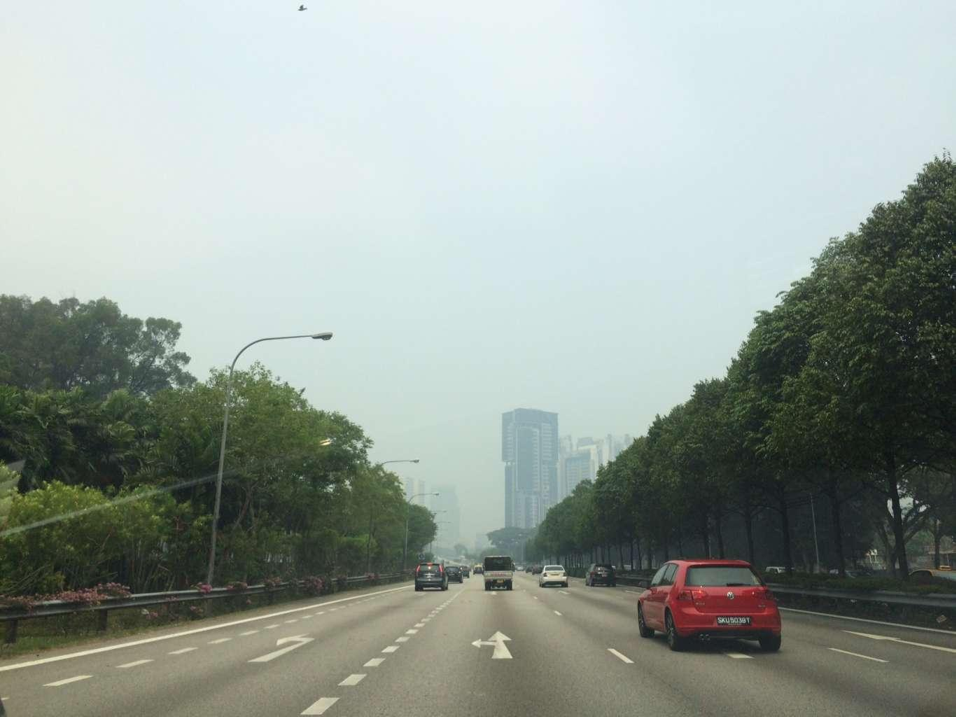bus: (481, 556, 517, 591)
car: (637, 559, 783, 652), (414, 562, 449, 592), (584, 563, 617, 588), (539, 565, 569, 588), (904, 569, 938, 585), (829, 569, 860, 585), (855, 561, 884, 575), (442, 566, 464, 584), (765, 566, 790, 579), (457, 565, 470, 579), (532, 564, 545, 576), (473, 565, 484, 576), (620, 565, 633, 573), (607, 565, 617, 575), (525, 565, 535, 574), (516, 565, 525, 572)
